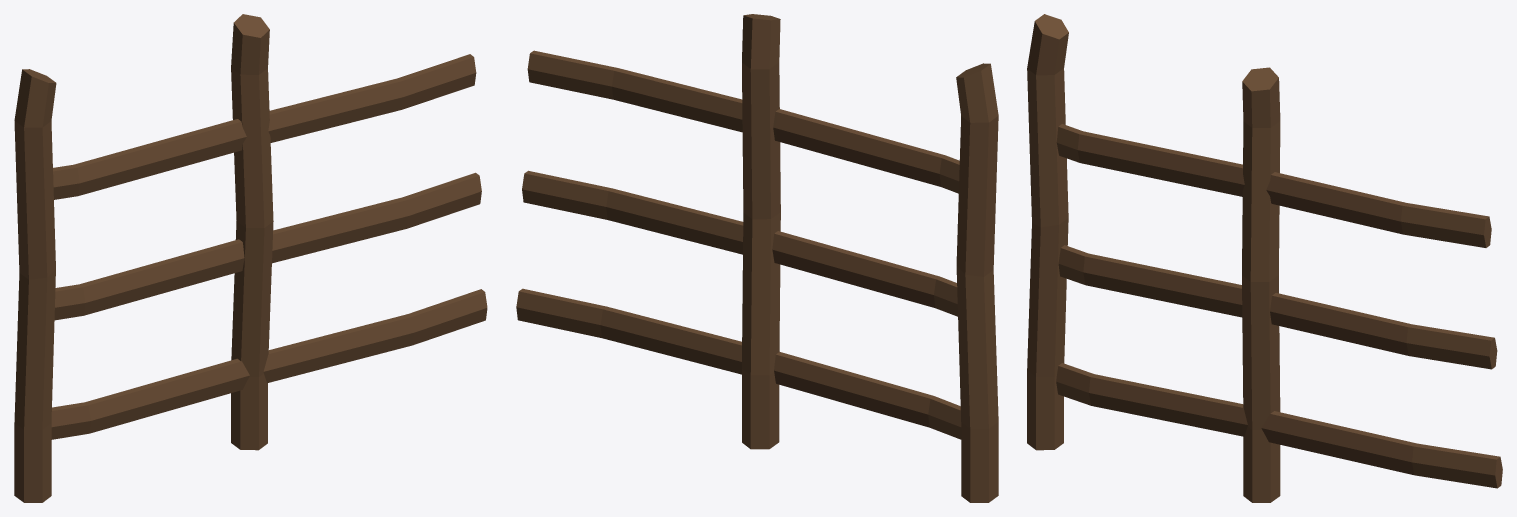
The model's file is barrel_3.fbx.
3 views of the same model, side by side, from view 1: azimuth 30°, elevation 25°; view 2: azimuth 150°, elevation 25°; view 3: azimuth 330°, elevation 25° (orthographic).
Visible parts, largest first — view 1: Cylinder; view 2: Cylinder; view 3: Cylinder.
Part boxes in pixels (x1,y1,x2,y2): Cylinder: [14, 14, 487, 502]; Cylinder: [516, 14, 998, 502]; Cylinder: [1027, 14, 1502, 502].
Bounding box in the file's own units: 210 × 183 × 17.72.
